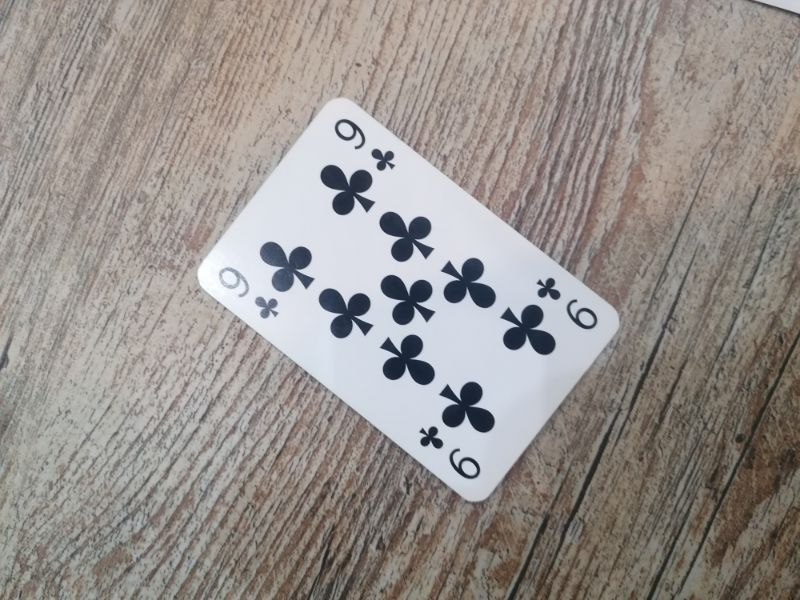9c: (214, 262, 283, 321), (533, 273, 600, 333), (416, 422, 483, 482), (333, 115, 397, 172)
